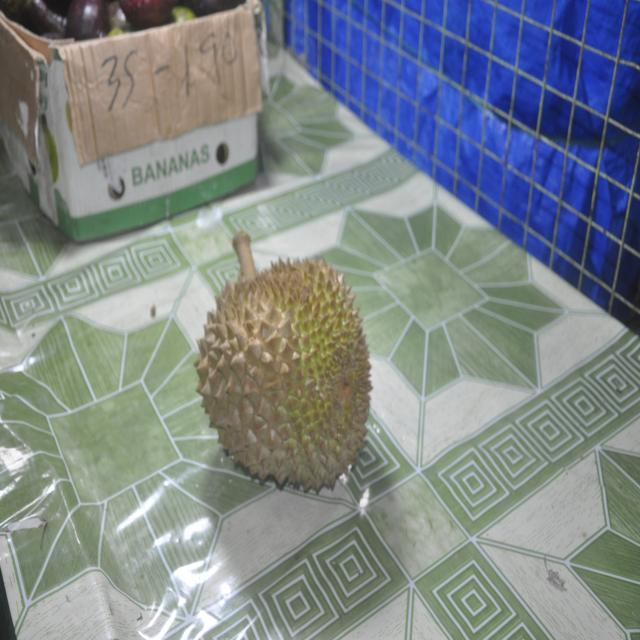mature: (196, 234, 371, 492)
